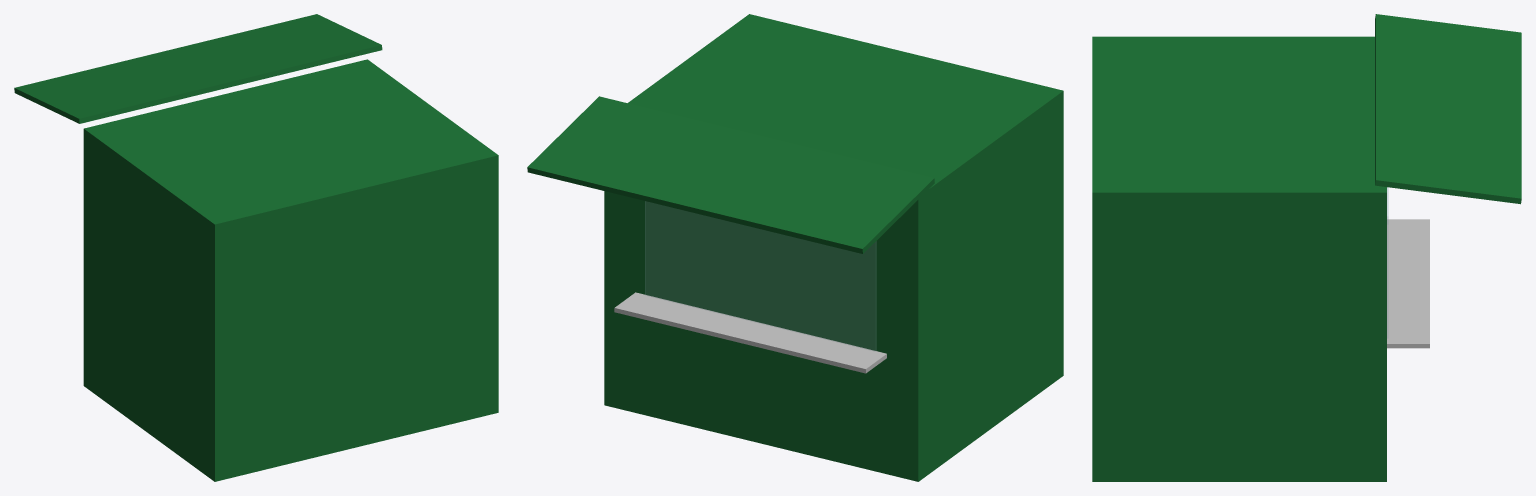
Rendered from retail.shop.kiosk.glb.
3 views of the same model, side by side, from view 1: azimuth 30°, elevation 25°; view 2: azimuth 150°, elevation 25°; view 3: azimuth 270°, elevation 25° (orthographic). The views are drawn at different scales.
Parts seen in each view (by area): view 1: main__plastic_green; view 2: main__plastic_green, main__glass, main__steel_stainless; view 3: main__plastic_green, main__steel_stainless.
Boxes of the visible parts, x1,y1,x2,y2 form: main__plastic_green: (14,14,498,481); main__plastic_green: (527,14,1063,481); main__glass: (645,201,876,351); main__steel_stainless: (614,292,886,373); main__plastic_green: (1092,14,1521,481); main__steel_stainless: (1387,219,1429,348).
Size of the model in its own units: 3.2 by 2.76 by 3.5.
